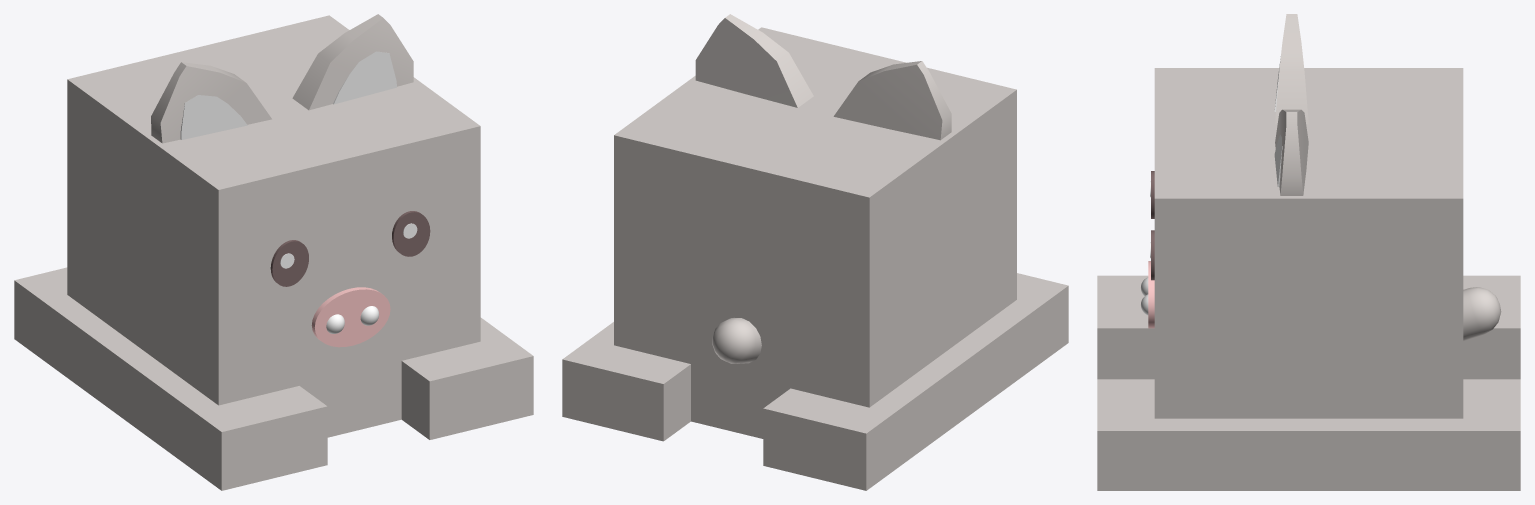
Rendered from pig-with-pink-skin.glb.
3 renders of one model, left to right at view 1: azimuth 30°, elevation 25°; view 2: azimuth 150°, elevation 25°; view 3: azimuth 270°, elevation 25°, orthographic. The views are drawn at different scales.
Parts seen in each view (by area): view 1: body_4, cube_7, cube_6, nose_9, 圆柱_8, nose_8; view 2: body_4, cube_7, tail_6; view 3: body_4, cube_7, tail_6.
Boxes of the visible parts, x1,y1,x2,y2 form: body_4: (14, 15, 533, 490); cube_7: (151, 14, 413, 143); cube_6: (180, 51, 396, 139); nose_9: (311, 287, 390, 347); 圆柱_8: (270, 211, 430, 286); nose_8: (326, 306, 379, 333); body_4: (562, 27, 1068, 490); cube_7: (695, 14, 951, 140); tail_6: (712, 317, 761, 363); body_4: (1097, 68, 1520, 490); cube_7: (1275, 14, 1308, 195); tail_6: (1463, 287, 1501, 340).
Bounding box in the file's own units: 0.476 × 0.5004 × 0.5484.
